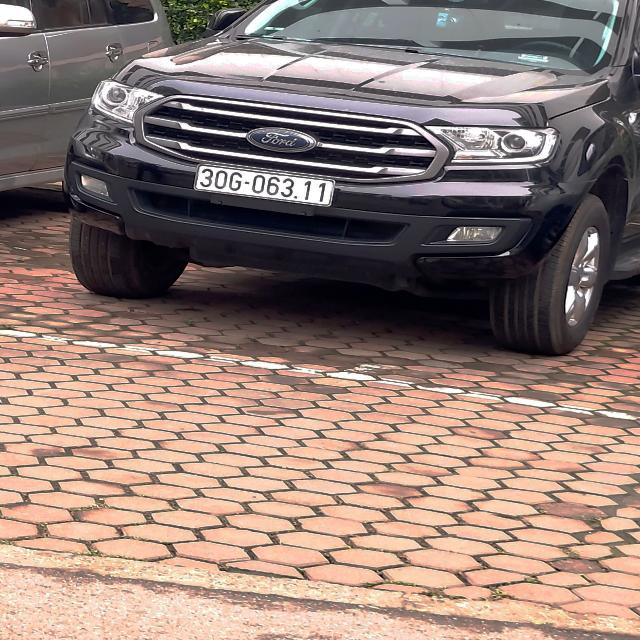license_plate: (197, 163, 337, 207)
